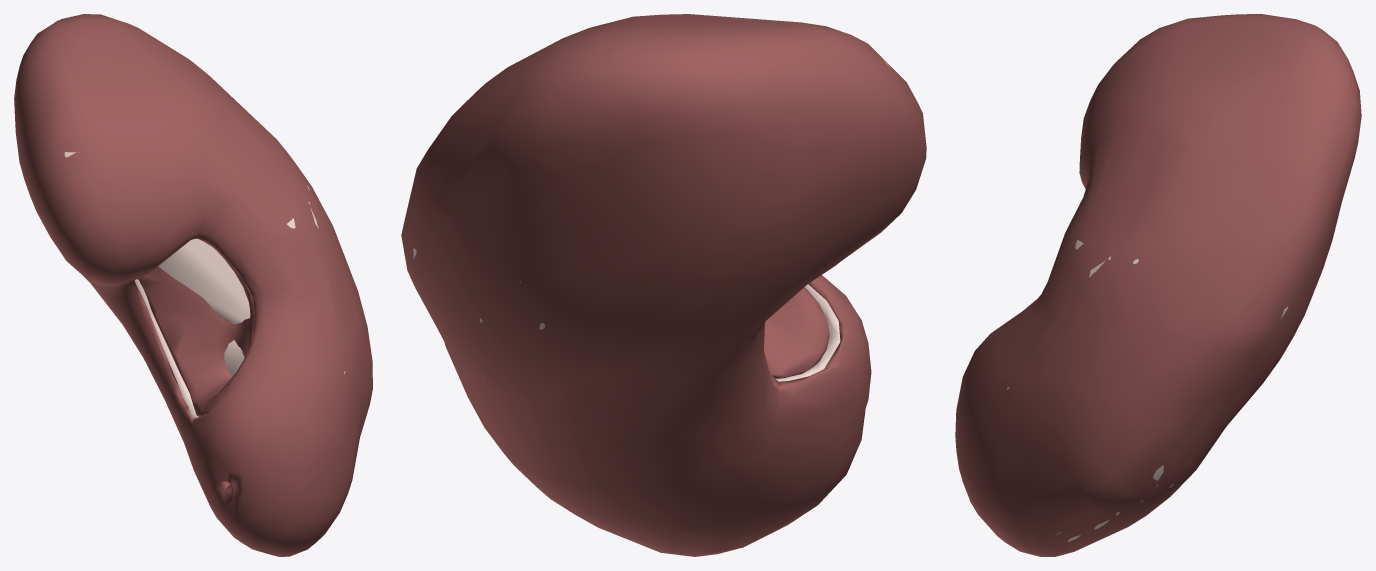
File: vh_m_kidney_l-20.glb
The picture shows the model from 3 angles, left to right: view 1: azimuth 30°, elevation 25°; view 2: azimuth 150°, elevation 25°; view 3: azimuth 270°, elevation 25°; orthographic projection. The views are drawn at different scales.
Parts seen in each view (by area): view 1: VH_M_kidney_capsule_L, VH_M_hilum_of_kidney_L, VH_M_renal_column_L, VH_M_outer_cortex_of_kidney_L; view 2: VH_M_kidney_capsule_L, VH_M_hilum_of_kidney_L, VH_M_outer_cortex_of_kidney_L; view 3: VH_M_kidney_capsule_L.
Boxes of the visible parts, x1,y1,x2,y2 form: VH_M_kidney_capsule_L: (14,14,372,556); VH_M_hilum_of_kidney_L: (138,253,254,416); VH_M_renal_column_L: (158,239,250,376); VH_M_outer_cortex_of_kidney_L: (64,152,345,418); VH_M_kidney_capsule_L: (401,14,926,556); VH_M_hilum_of_kidney_L: (764,287,829,378); VH_M_outer_cortex_of_kidney_L: (413,57,890,533); VH_M_kidney_capsule_L: (955,14,1361,556).
Bounding box in the file's own units: 0.0759 × 0.1066 × 0.0824.
